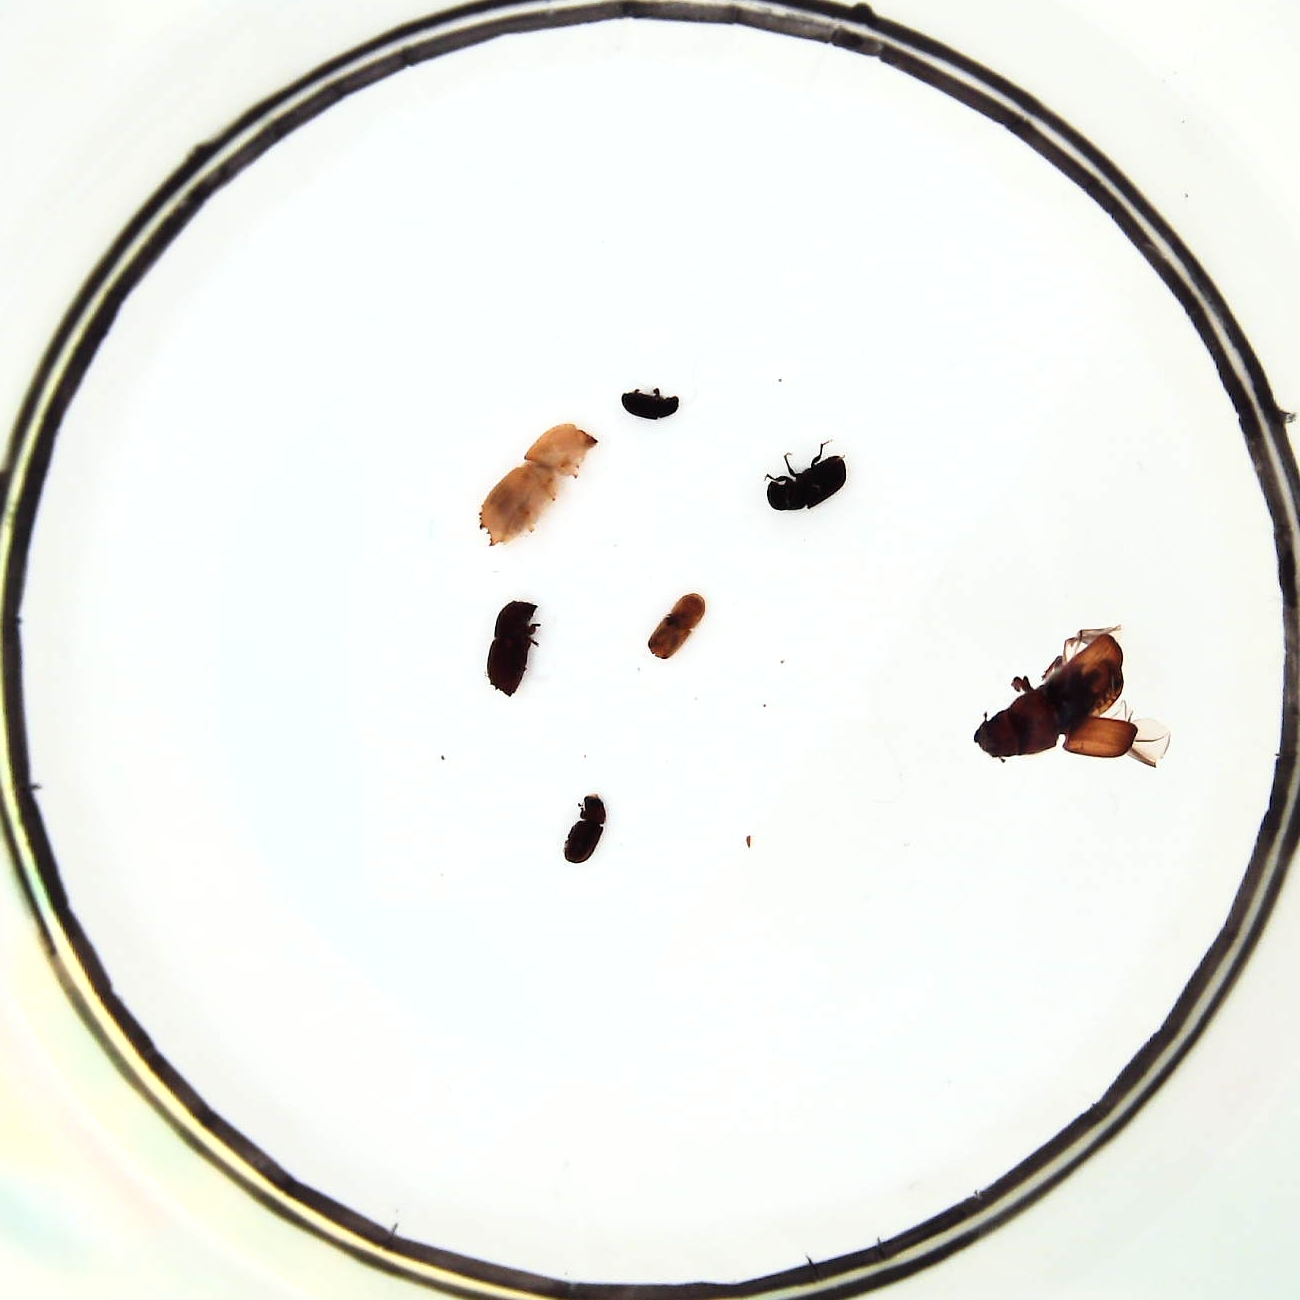Boerner: (481, 419, 595, 552)
Leconte: (971, 631, 1138, 761)
Linnaeus: (487, 600, 538, 701)
acuminatus: (646, 594, 708, 663)
armandi: (768, 455, 846, 510)
coleoptera: (562, 795, 607, 865), (620, 388, 679, 421)
